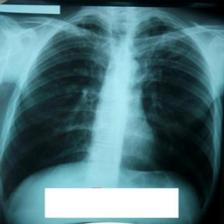tuberculosis: (0, 10, 215, 209)
